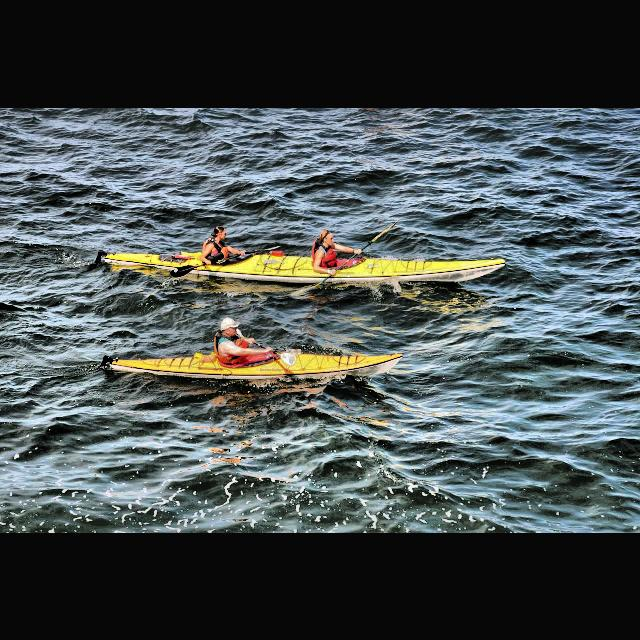kayak: (95, 247, 508, 285), (102, 348, 404, 379)
